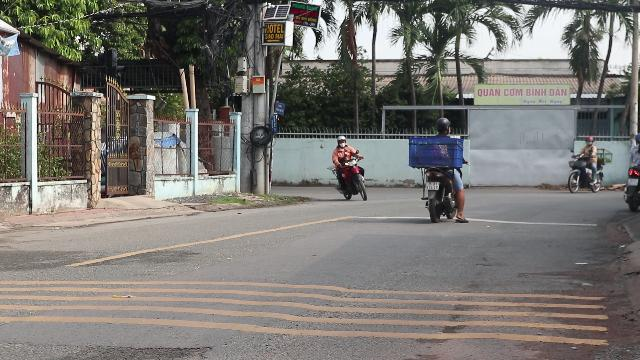helmet: (434, 116, 450, 134)
licenseplate: (426, 182, 438, 190)
motorcyclist: (408, 116, 468, 222)
